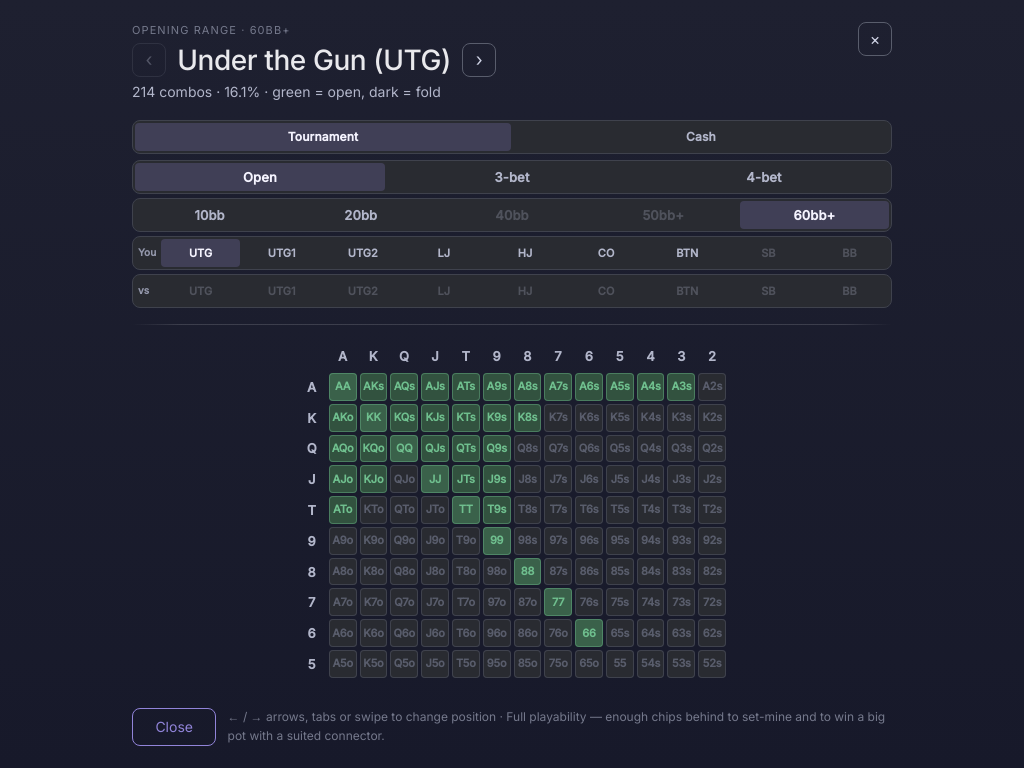
ChartBrowser (menu) › shows every row on Open, with Versus greyed and the tier picked on Stack
Step 1. Click the tab "10bb" → click(210, 214), box [135,200,284,228]
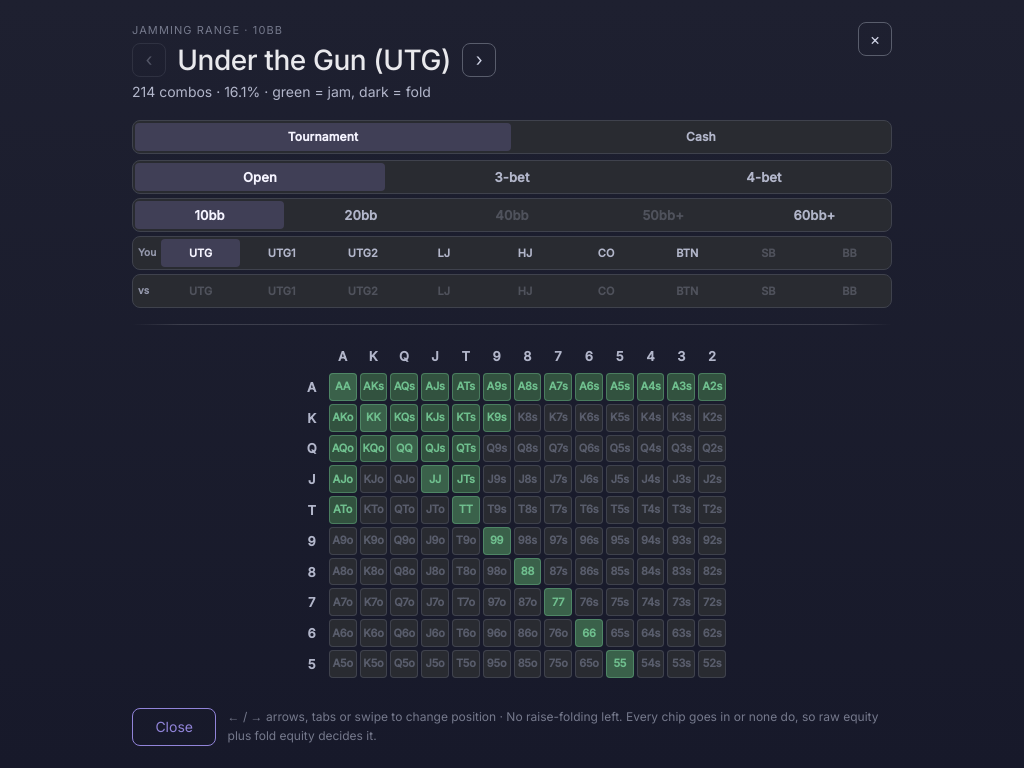
Step 2. Click the tab "CO" in the row of "You" → click(606, 252), box [566,238,646,266]
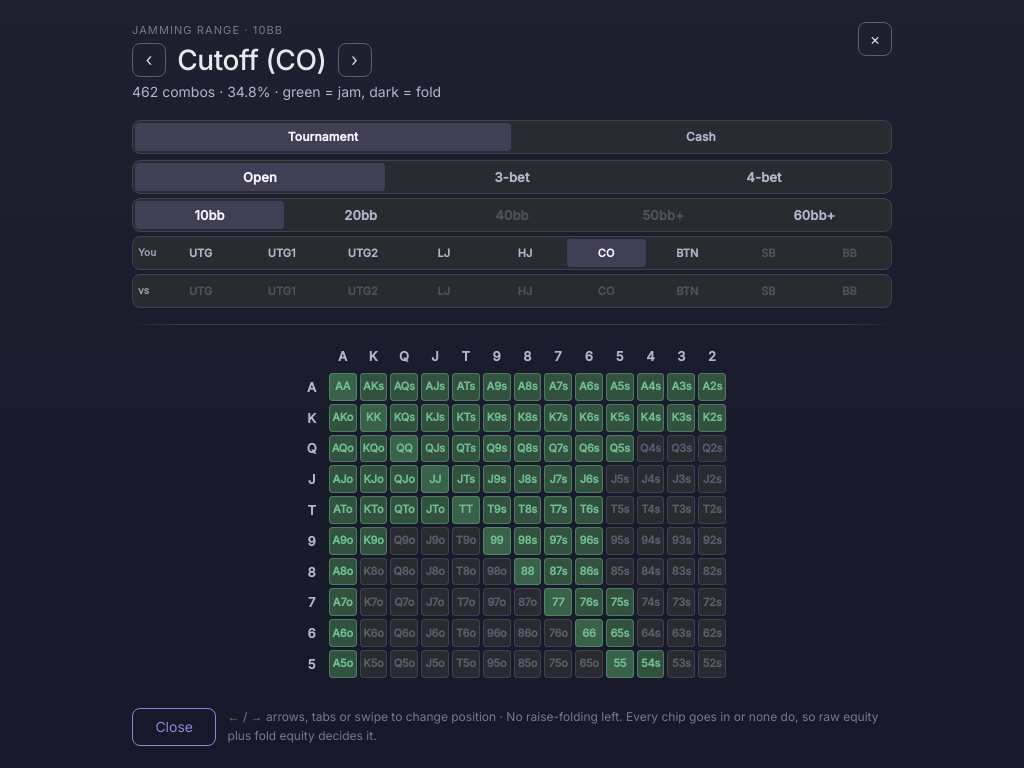
Now the heading reads "Cutoff (CO)", box [177,43,326,77]
